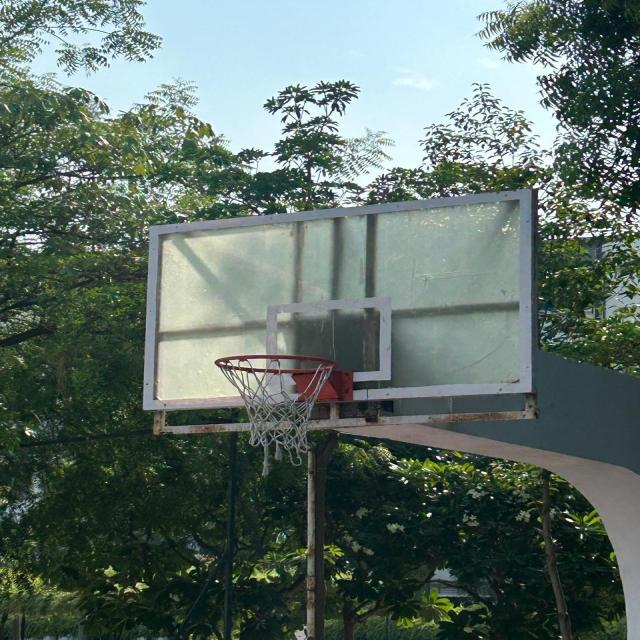hoop: (210, 344, 377, 472)
